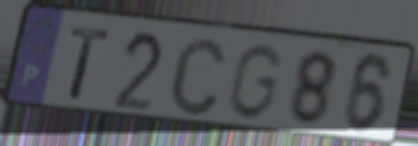2: (109, 29, 169, 113)
6: (340, 51, 399, 136)
8: (287, 48, 342, 129)
C: (166, 34, 230, 119)
G: (224, 41, 286, 122)
T: (67, 24, 113, 103)
